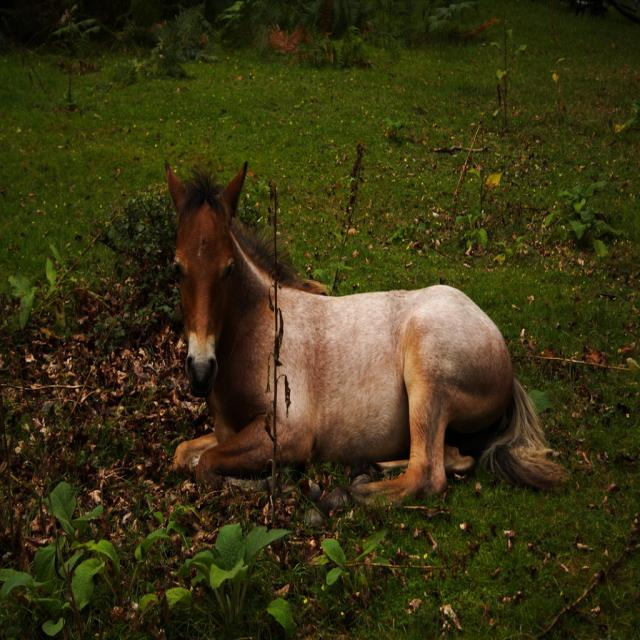Horse: (166, 164, 566, 508)
